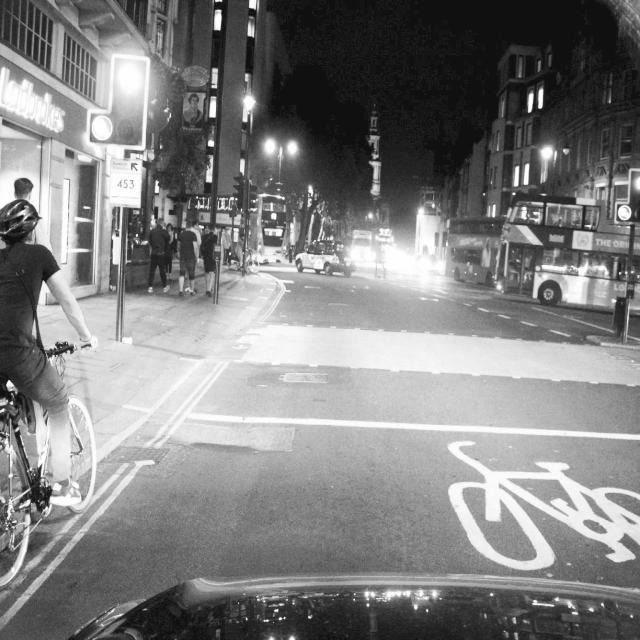Light: (87, 53, 151, 151), (614, 168, 640, 227)
Sign: (108, 158, 142, 208)
